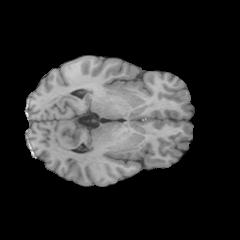glioma: (84, 78, 154, 119)
